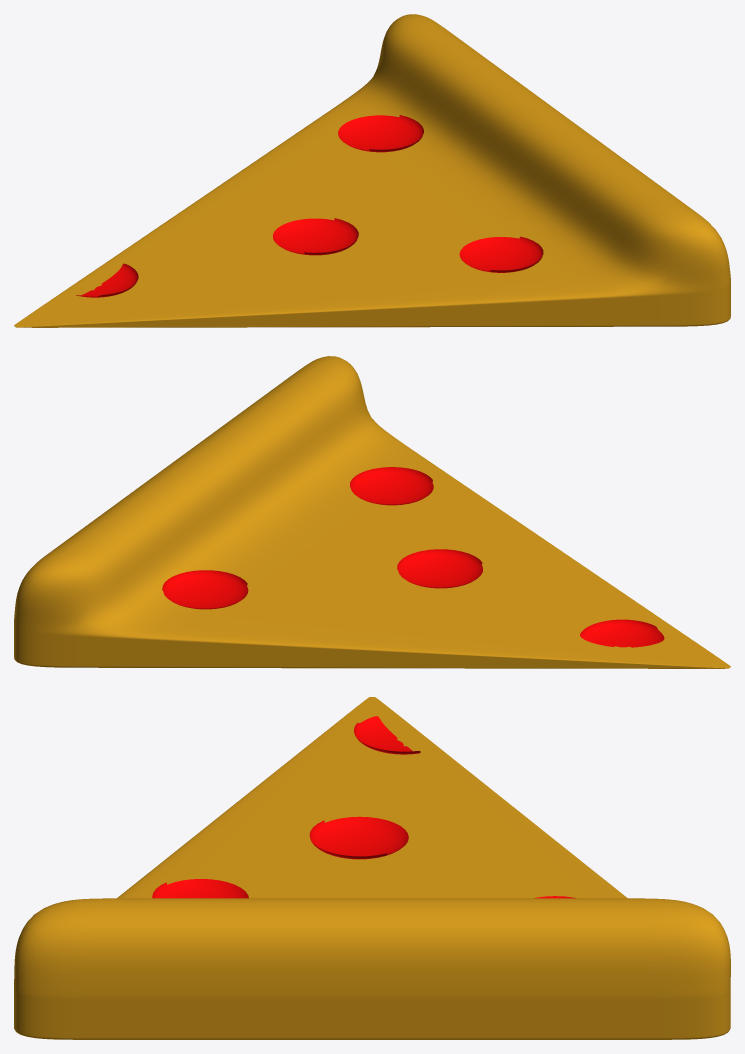
File: pizza.fbx
3 renders of one model, top to bottom at view 1: azimuth 30°, elevation 25°; view 2: azimuth 150°, elevation 25°; view 3: azimuth 270°, elevation 25°, orthographic. The views are drawn at different scales.
Parts seen in each view (by area): view 1: Cube, Sphere, Sphere.002, Sphere.001, Sphere.003; view 2: Cube, Sphere, Sphere.002, Sphere.001, Sphere.003; view 3: Cube, Sphere.002, Sphere.001, Sphere.003.
Boxes of the visible parts, x1,y1,x2,y2 form: Cube: (14,14,730,327); Sphere: (338,115,423,152); Sphere.002: (272,218,358,255); Sphere.001: (459,236,543,272); Sphere.003: (76,263,138,297); Cube: (14,356,730,668); Sphere: (162,570,248,609); Sphere.002: (397,549,482,588); Sphere.001: (350,467,433,505); Sphere.003: (580,619,664,647); Cube: (14,697,730,1039); Sphere.002: (309,816,408,859); Sphere.001: (152,879,248,898); Sphere.003: (354,716,420,754).
Bounding box in the file's own units: 200 × 33.66 × 189.
